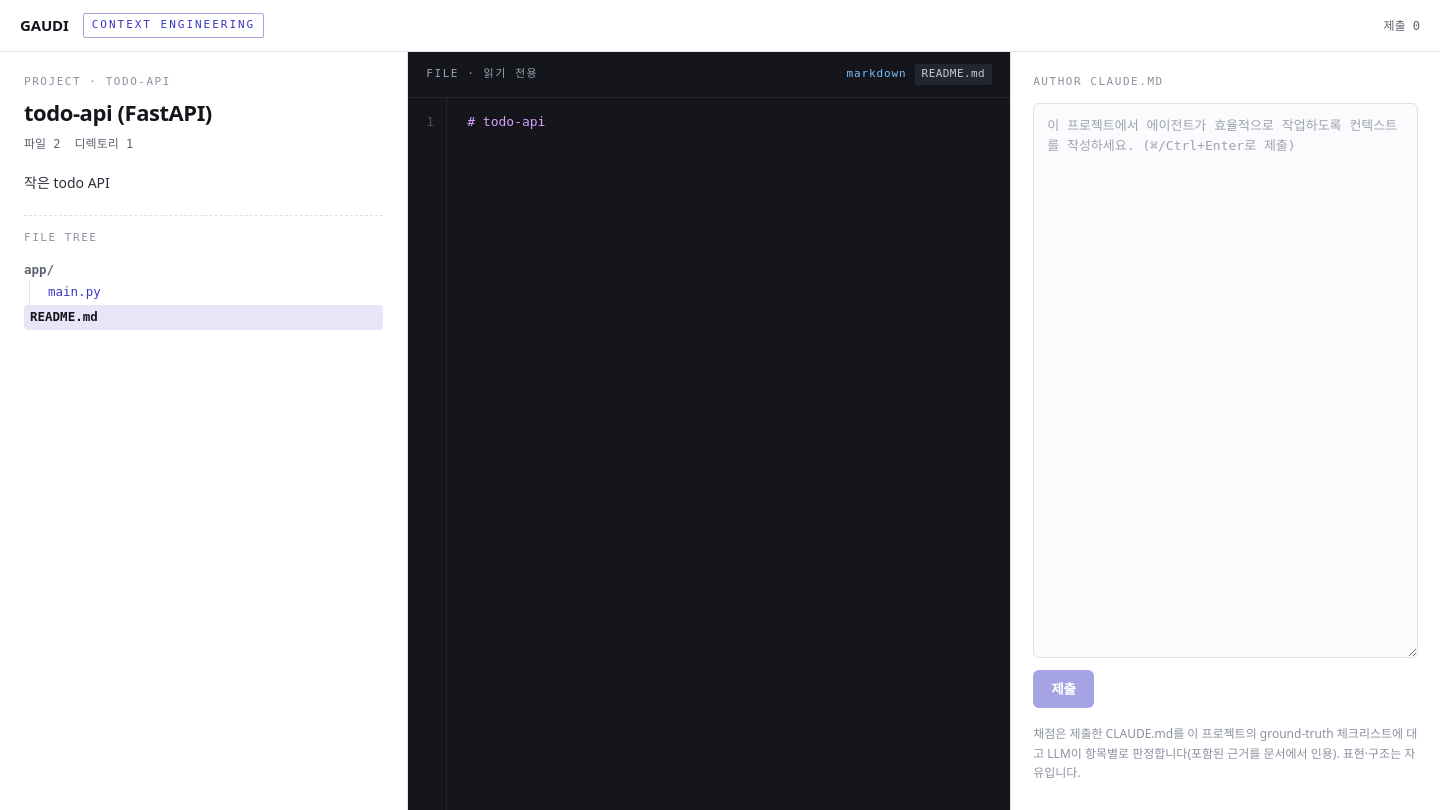
Scenario: Workspace (context-engineering) › shows a file's content in the well when its tree node is clicked
Click the button "main.py".
click(74, 292)  # box [42, 280, 383, 305]
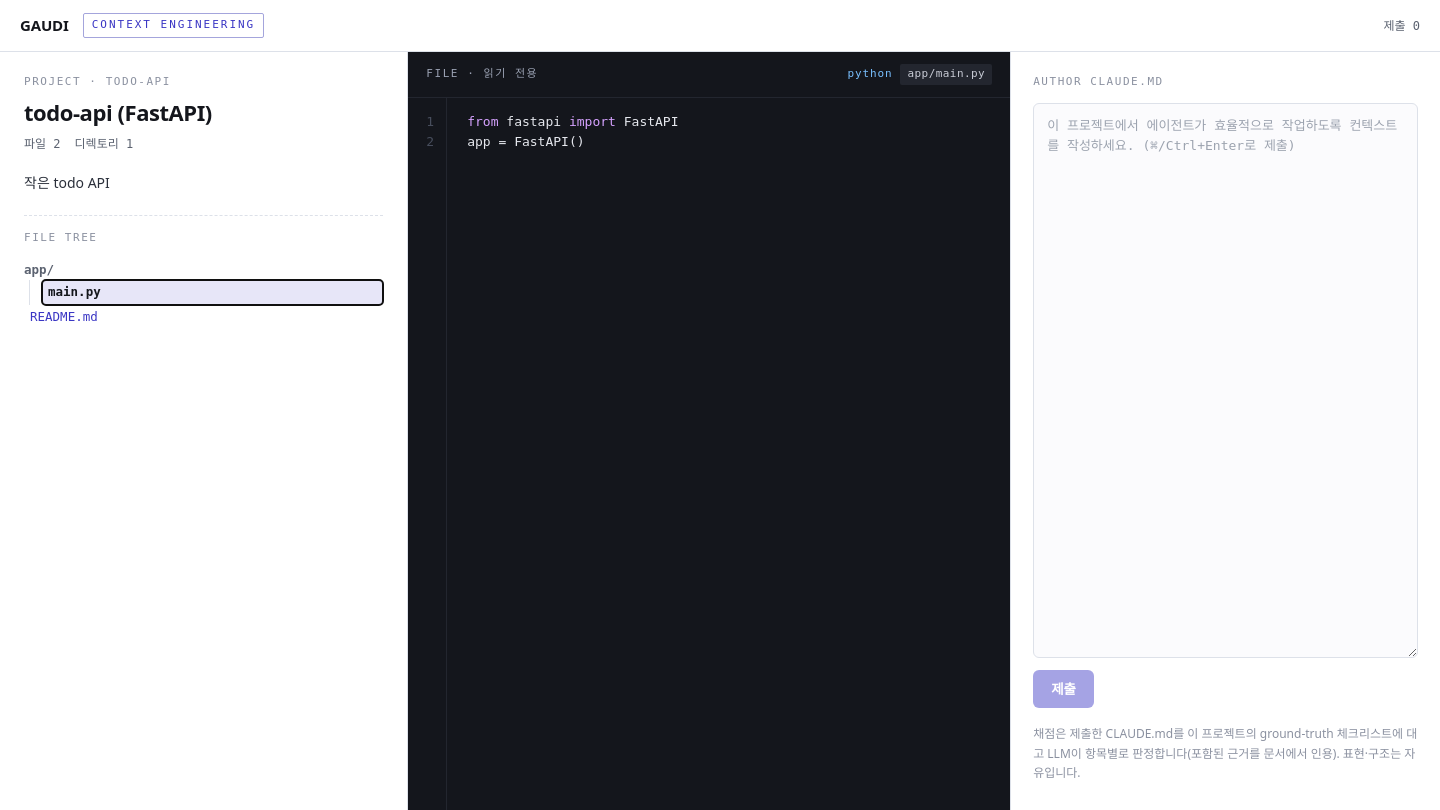
Expected: the element named "파일 내용" shows "from fastapi import FastAPI", [408, 52, 1010, 809]
